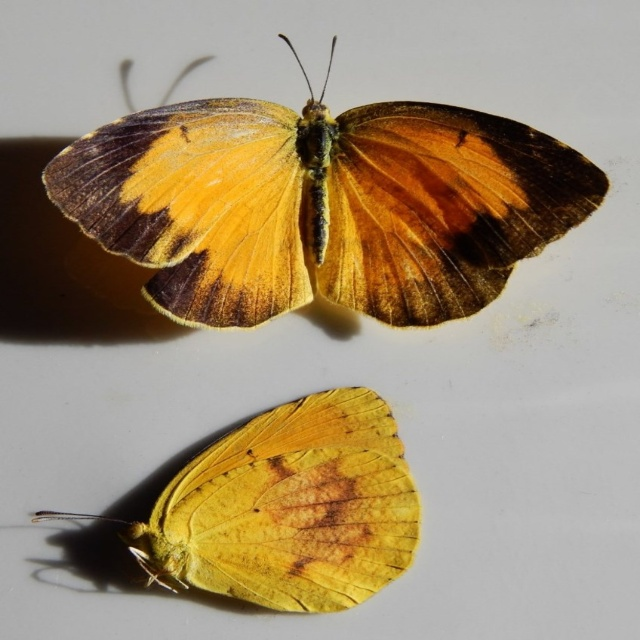Butterfly: (37, 25, 614, 337), (14, 364, 436, 617)
